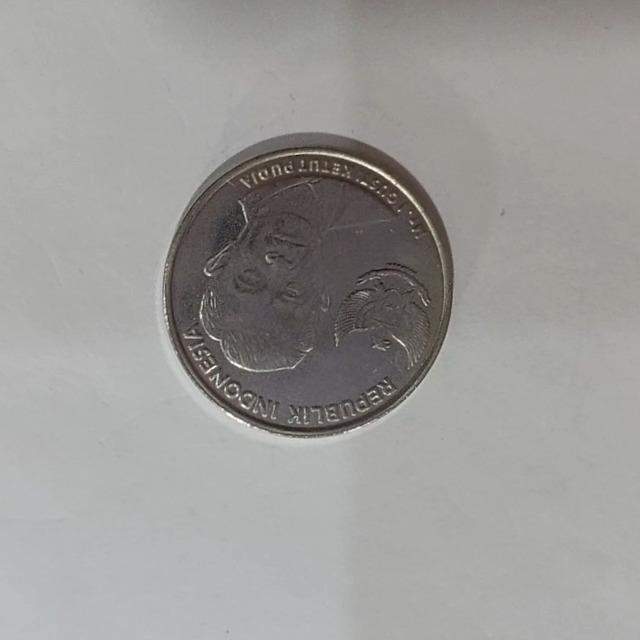Rp100: (159, 131, 455, 441)
